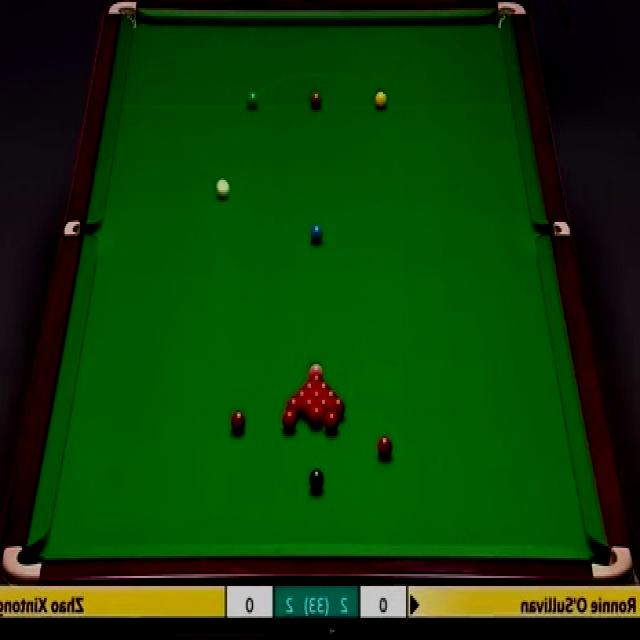black-ball: (310, 467, 326, 491)
blue-ball: (310, 225, 324, 242)
brown-ball: (310, 90, 322, 111)
green-ball: (245, 88, 260, 110)
pink-ball: (308, 364, 323, 378)
red-ball: (230, 410, 247, 437), (377, 435, 394, 461), (324, 410, 342, 433), (282, 410, 298, 432), (309, 405, 324, 427), (288, 397, 303, 418), (332, 397, 345, 419), (302, 398, 315, 419), (325, 389, 336, 401), (311, 390, 322, 402), (312, 375, 322, 387)
white-ball: (216, 176, 230, 202)
yellow-ball: (375, 90, 387, 110)
